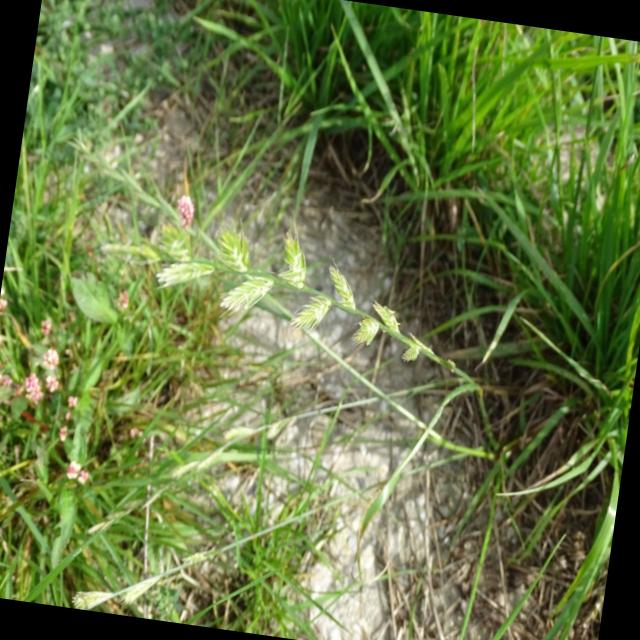Lolium: (45, 133, 605, 481), (154, 214, 546, 424)
